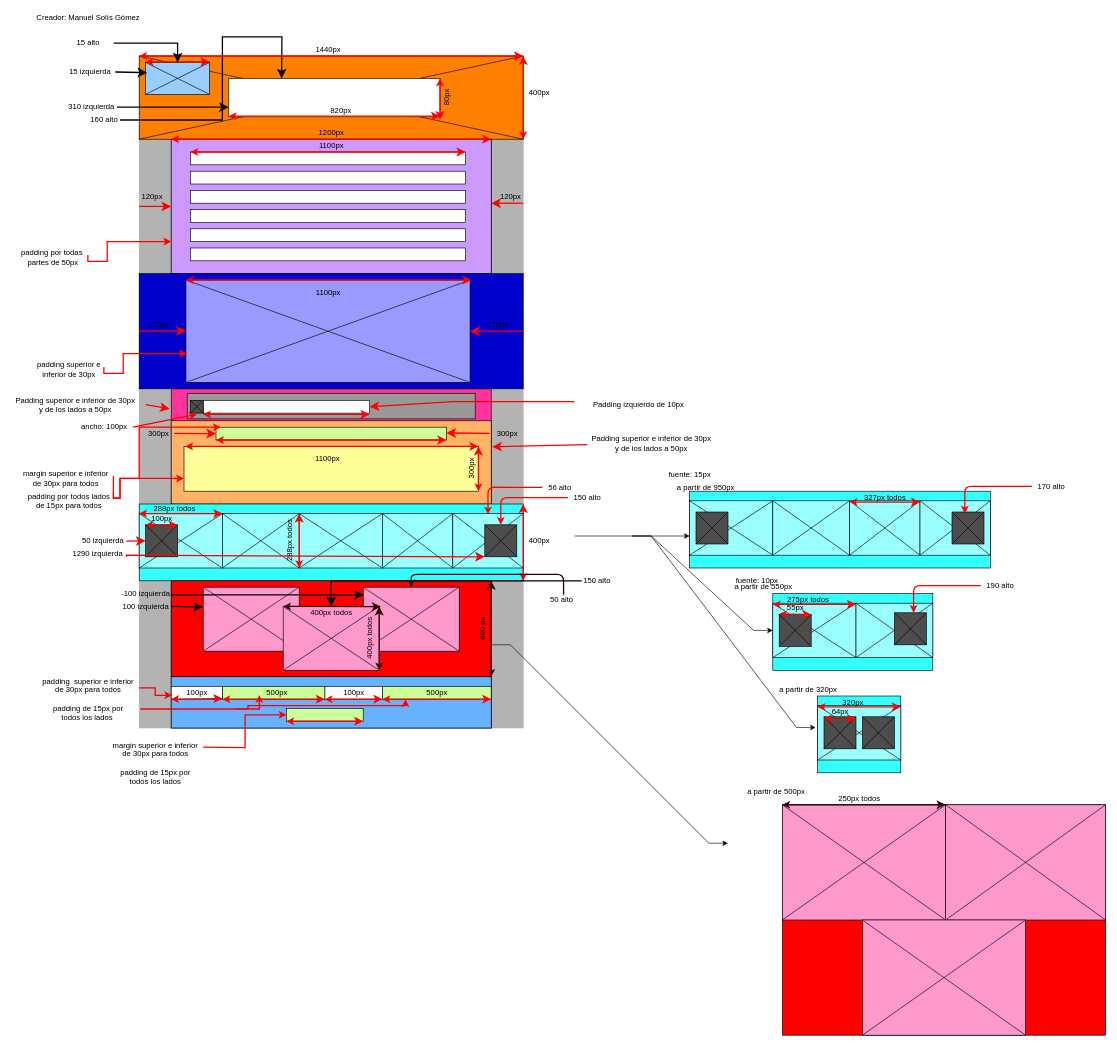
Some shapes in this 1117 by 1047 pixel diagram are drawn without their labels. Here are the shapes that lost their labels. From the top down, the centre of each, then its label:
the point at 177,78: 200px
the point at 286,406: 494px
the point at 330,433: 600px
the point at 324,714: 350px
